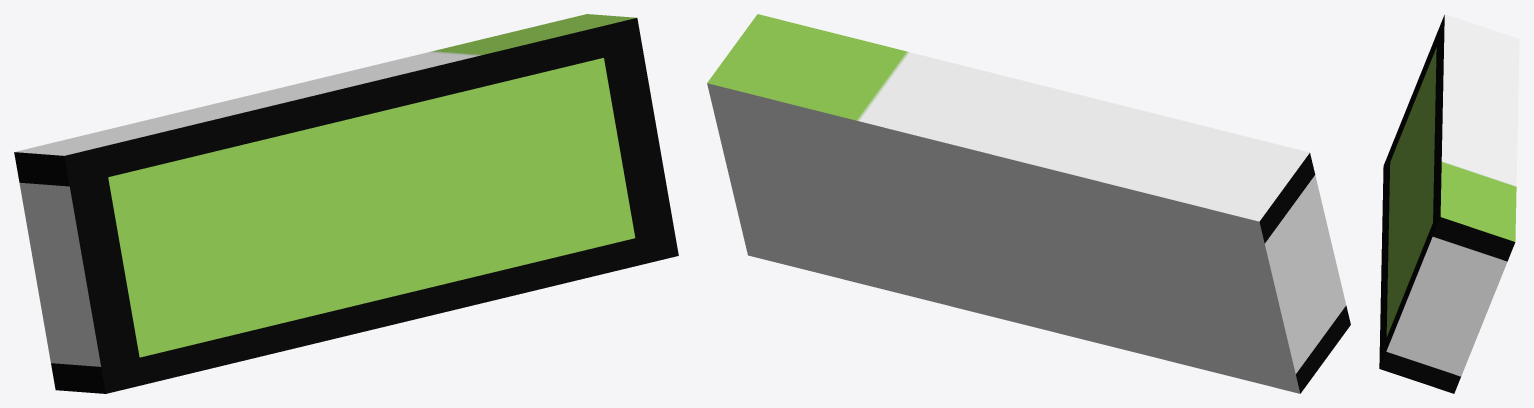
File: hokakuteki_left.fbx
3 views of the same model, side by side, from view 1: azimuth 30°, elevation 25°; view 2: azimuth 150°, elevation 25°; view 3: azimuth 270°, elevation 25° (orthographic). The views are drawn at different scales.
Parts seen in each view (by area): view 1: 立方体.007; view 2: 立方体.007; view 3: 立方体.007.
Part boxes in pixels (bbox=[...]): 立方体.007: bbox=[14, 14, 678, 393]; 立方体.007: bbox=[707, 14, 1350, 393]; 立方体.007: bbox=[1379, 14, 1519, 393].
Bounding box in the file's own units: 58.15 × 200 × 81.23.
